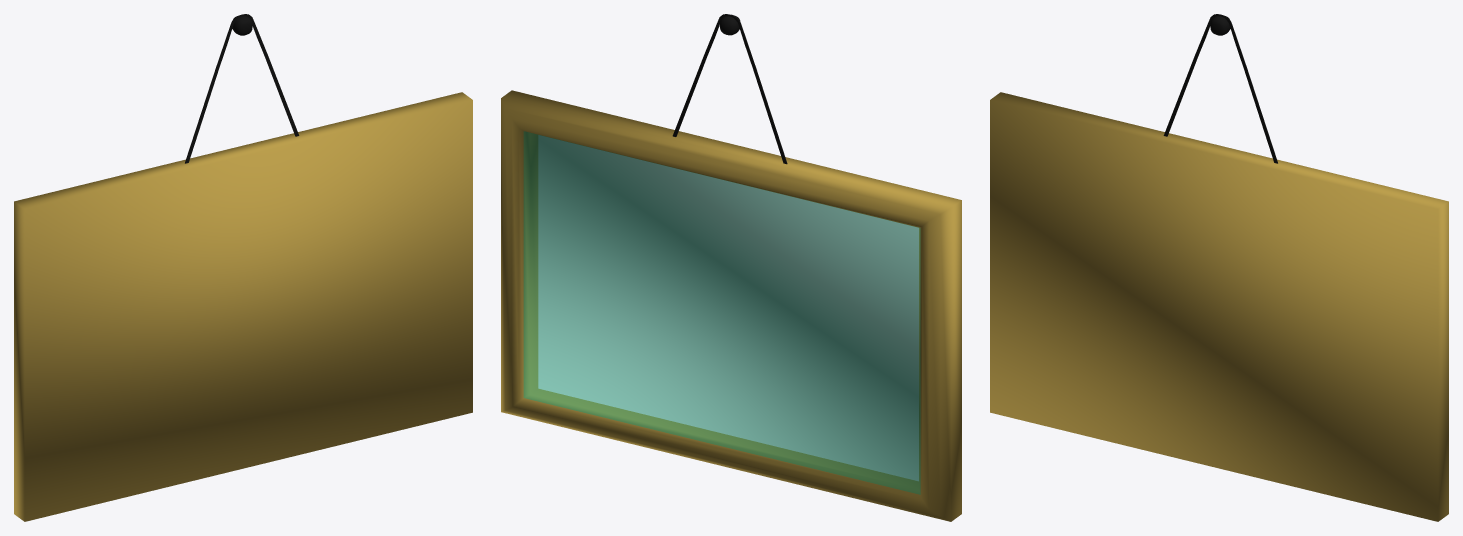
File: PictureFrame.fbx
The picture shows the model from 3 angles, left to right: view 1: azimuth 30°, elevation 25°; view 2: azimuth 150°, elevation 25°; view 3: azimuth 330°, elevation 25°; orthographic projection.
Parts seen in each view (by area): view 1: Picture Frame, String; view 2: Picture Frame, String; view 3: Picture Frame, String.
Boxes of the visible parts, x1,y1,x2,y2 form: Picture Frame: (14, 92, 472, 521); String: (185, 14, 299, 163); Picture Frame: (501, 90, 961, 521); String: (672, 14, 787, 164); Picture Frame: (990, 92, 1448, 521); String: (1163, 14, 1277, 163).
Bounding box in the file's own units: 318 × 303 × 20.01.
